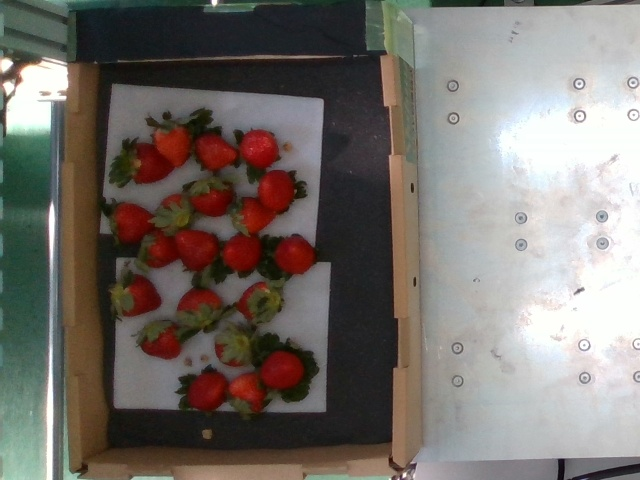strawberry: (128, 142, 176, 184), (113, 276, 162, 317), (110, 202, 158, 242), (138, 319, 183, 360), (176, 226, 217, 270), (152, 124, 191, 170), (262, 350, 305, 391), (176, 288, 221, 327), (187, 372, 229, 411), (192, 133, 236, 169), (189, 182, 234, 217), (276, 237, 317, 275), (237, 283, 277, 321), (241, 128, 278, 169), (259, 171, 294, 213), (232, 372, 267, 414), (236, 198, 274, 236), (144, 229, 179, 270), (216, 328, 252, 365), (225, 234, 260, 271), (157, 195, 191, 227)
